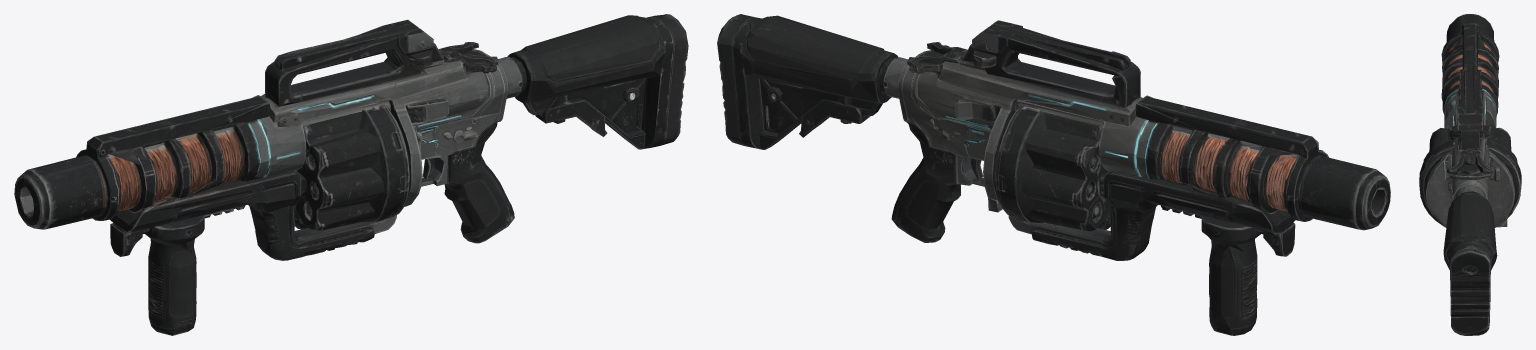
The model's file is arc_launcher.glb.
3 renders of one model, left to right at view 1: azimuth 30°, elevation 25°; view 2: azimuth 150°, elevation 25°; view 3: azimuth 270°, elevation 25°, orthographic. The views are drawn at different scales.
Visible parts, largest first — view 1: Mesh_0; view 2: Mesh_0; view 3: Mesh_0.
Boxes of the visible parts, bbox=[...] form: Mesh_0: bbox=[14, 14, 688, 335]; Mesh_0: bbox=[717, 14, 1390, 335]; Mesh_0: bbox=[1419, 14, 1521, 335].
Bounding box in the file's own units: 1.9 × 0.6789 × 0.344.
Materials: 1 (1 with a texture image).
